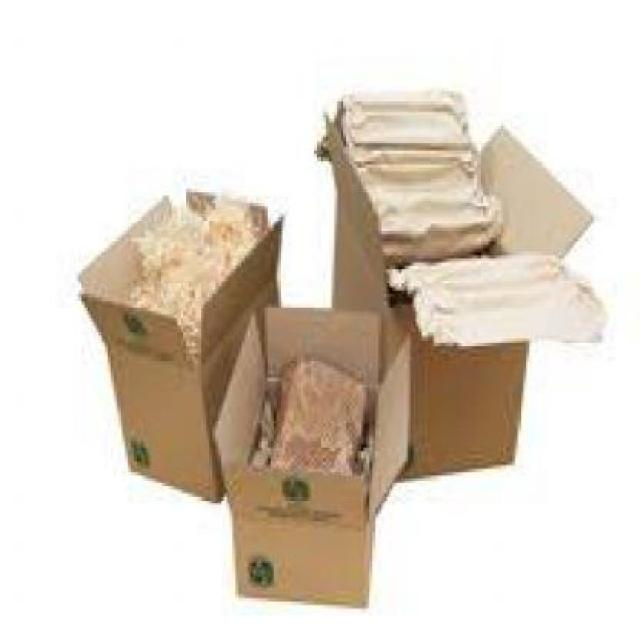cardboard: (317, 85, 597, 483), (85, 189, 288, 503), (216, 305, 416, 606)
